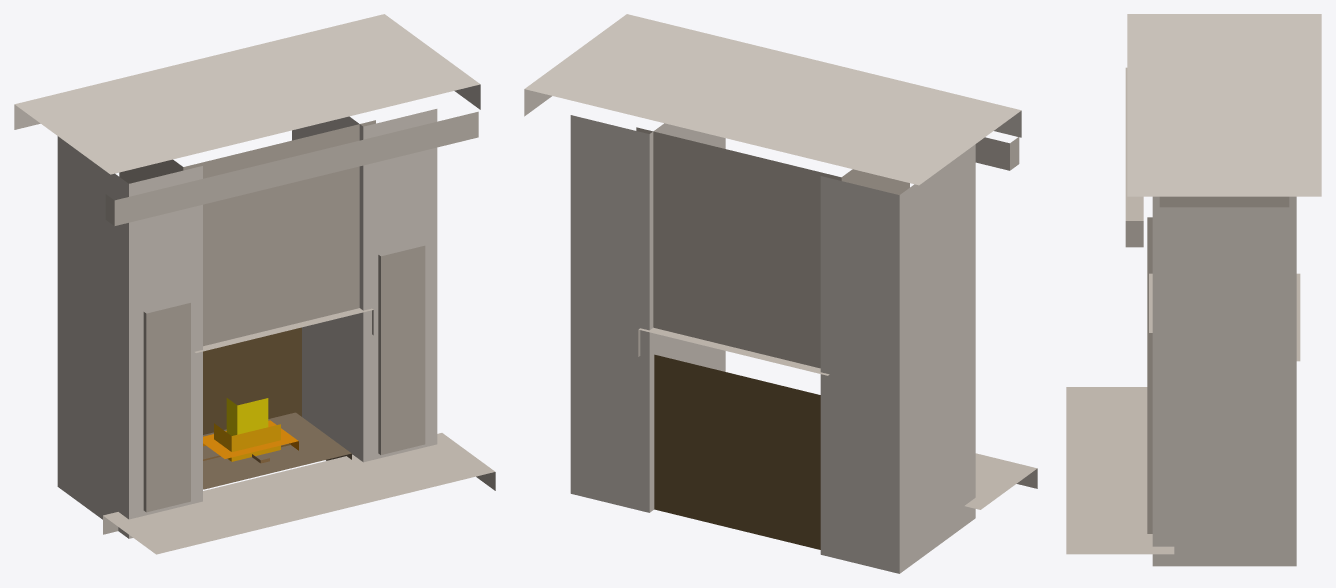
Rendered from fireplace.glb.
3 renders of one model, left to right at view 1: azimuth 30°, elevation 25°; view 2: azimuth 150°, elevation 25°; view 3: azimuth 270°, elevation 25°, orthographic. The views are drawn at different scales.
Size of the model in its own units: 1.2 by 1.18 by 0.71.
